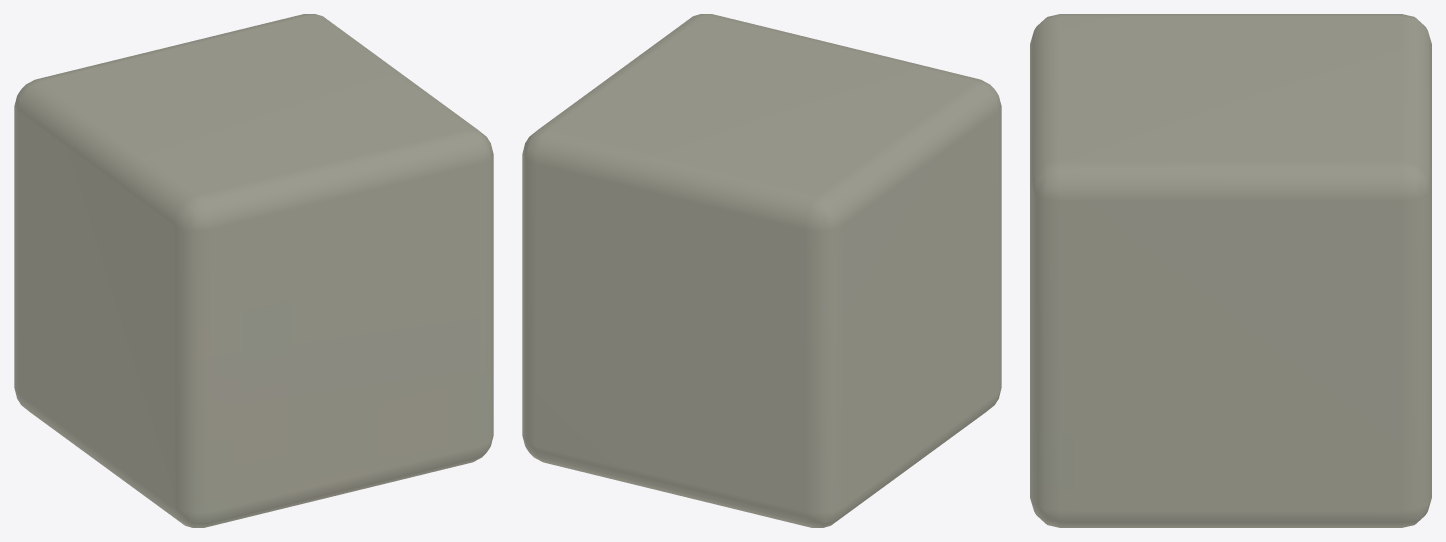
3 views of the same model, side by side, from view 1: azimuth 30°, elevation 25°; view 2: azimuth 150°, elevation 25°; view 3: azimuth 270°, elevation 25° (orthographic). The views are drawn at different scales.
Bounding box in the file's own units: 5.5 × 5.5 × 5.5.
Materials: 1 (1 with a texture image).
